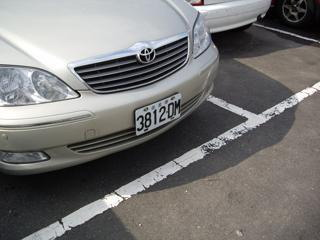plate: (133, 99, 183, 129)
